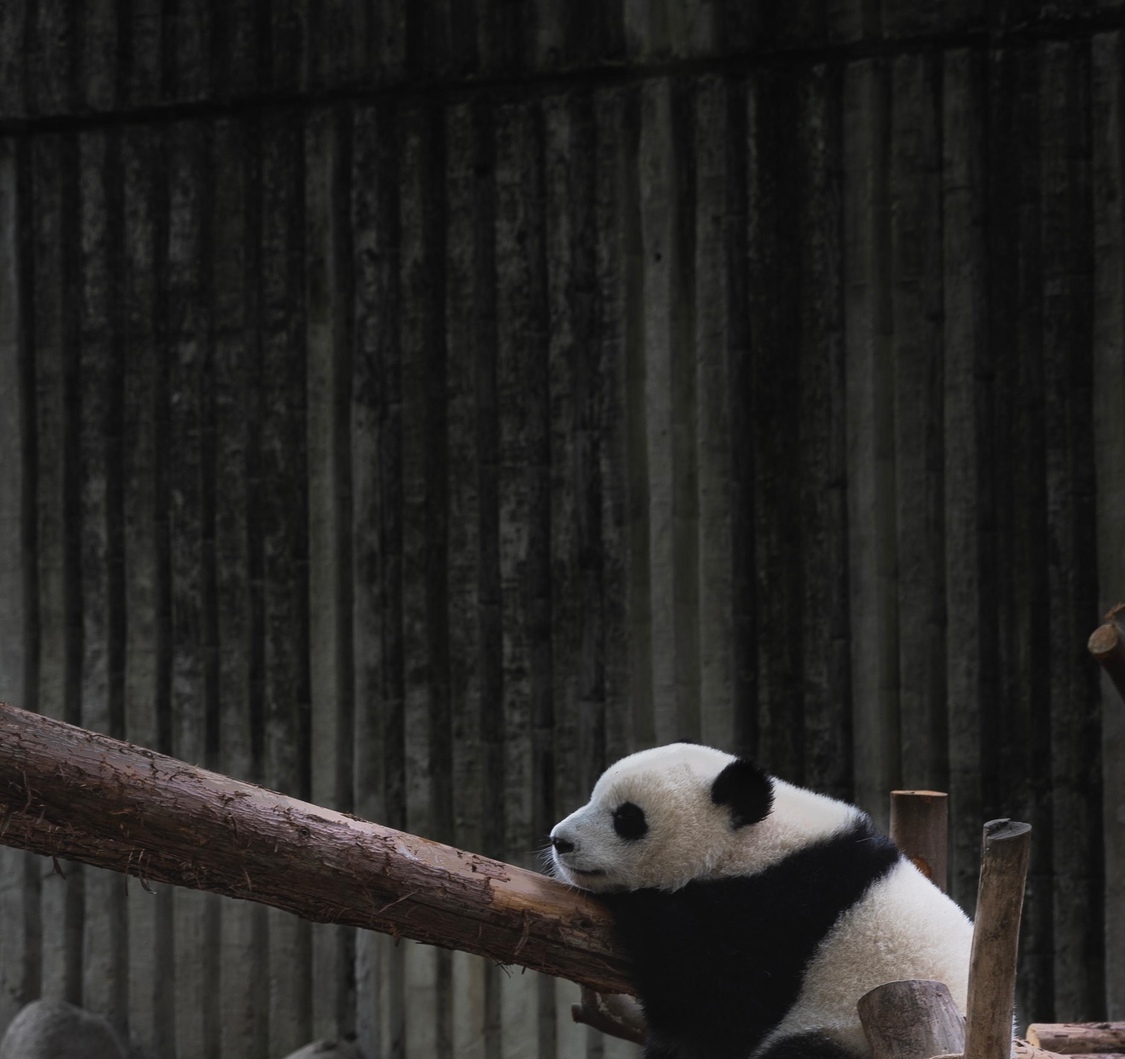panda: (547, 720, 1003, 1059)
